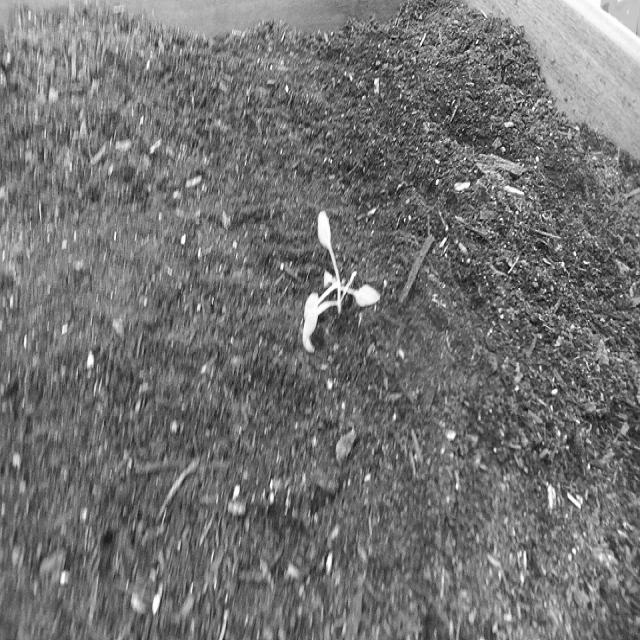Healthy: (285, 187, 388, 360)
